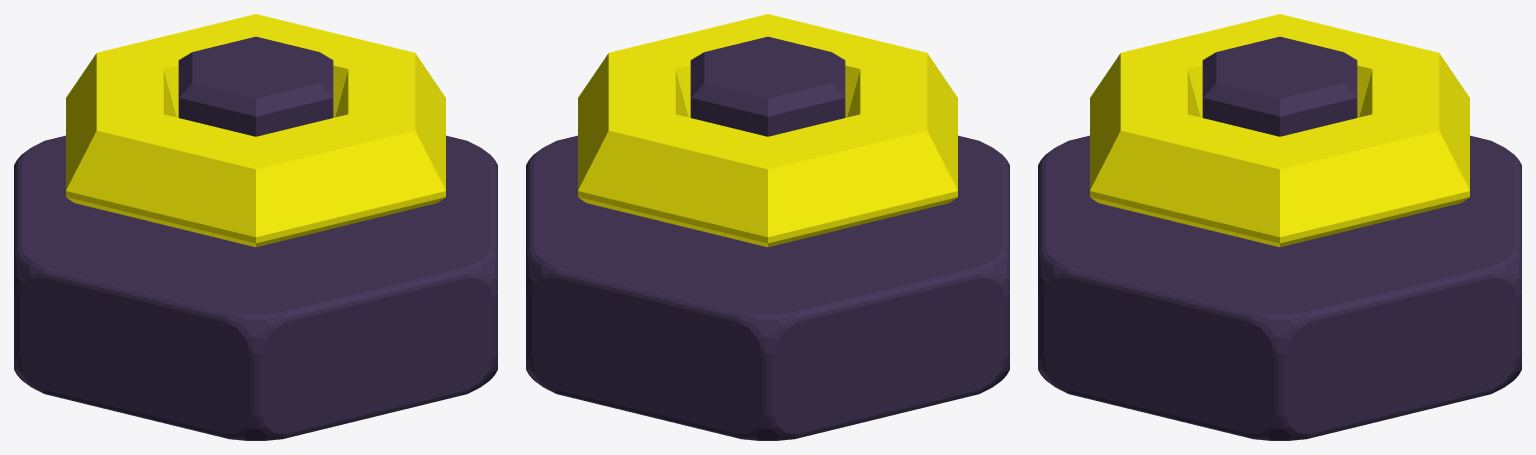
The model's file is hex_bumper.glb.
3 views of the same model, side by side, from view 1: azimuth 30°, elevation 25°; view 2: azimuth 150°, elevation 25°; view 3: azimuth 270°, elevation 25° (orthographic).
Visible parts, largest first — view 1: tile, yellowbouncer, purpleinnerpole; view 2: tile, yellowbouncer, purpleinnerpole; view 3: tile, yellowbouncer, purpleinnerpole.
Boxes of the visible parts, x1=… form: tile: x1=14, y1=135, x2=497, y2=440; yellowbouncer: x1=66, y1=14, x2=445, y2=247; purpleinnerpole: x1=178, y1=36, x2=333, y2=136; tile: x1=526, y1=135, x2=1009, y2=440; yellowbouncer: x1=578, y1=14, x2=957, y2=247; purpleinnerpole: x1=690, y1=36, x2=845, y2=136; tile: x1=1038, y1=135, x2=1521, y2=440; yellowbouncer: x1=1090, y1=14, x2=1469, y2=247; purpleinnerpole: x1=1202, y1=36, x2=1357, y2=136.
Size of the model in its own units: 1.98 by 1.04 by 1.73.
